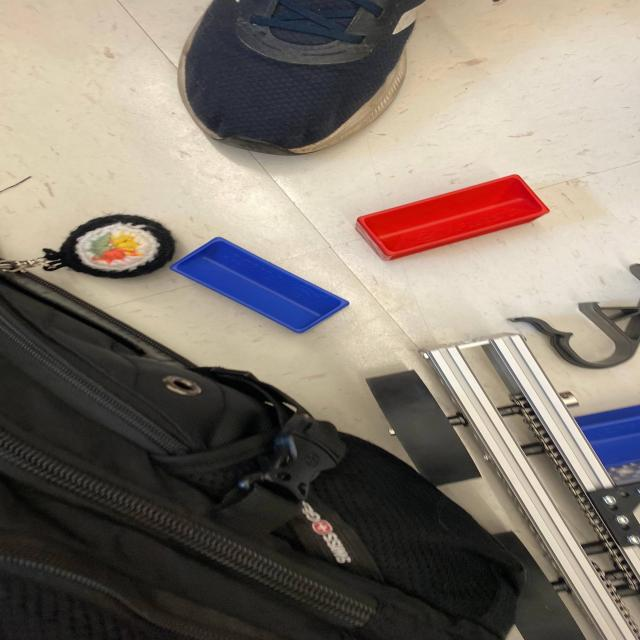blue-specimen: (170, 238, 349, 333), (575, 405, 640, 469)
red-specimen: (356, 175, 550, 260)
